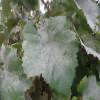Squash Powdery mildew leaf: (21, 15, 79, 97)
